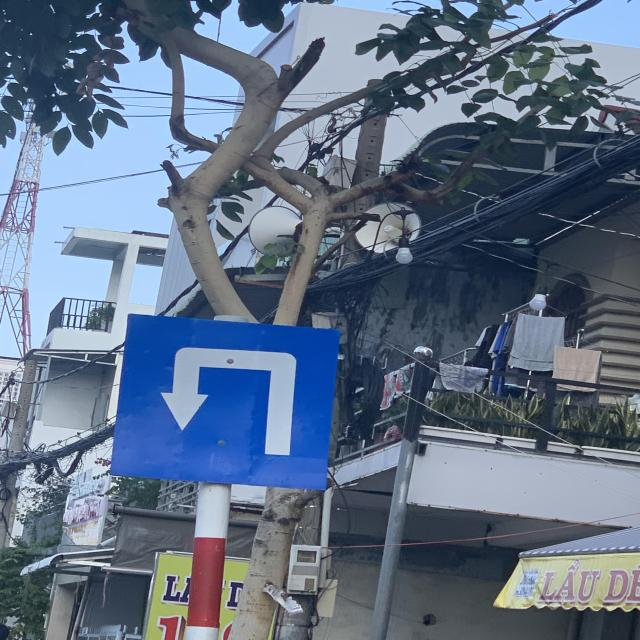Den_Giao_Thong: (113, 316, 334, 491)
